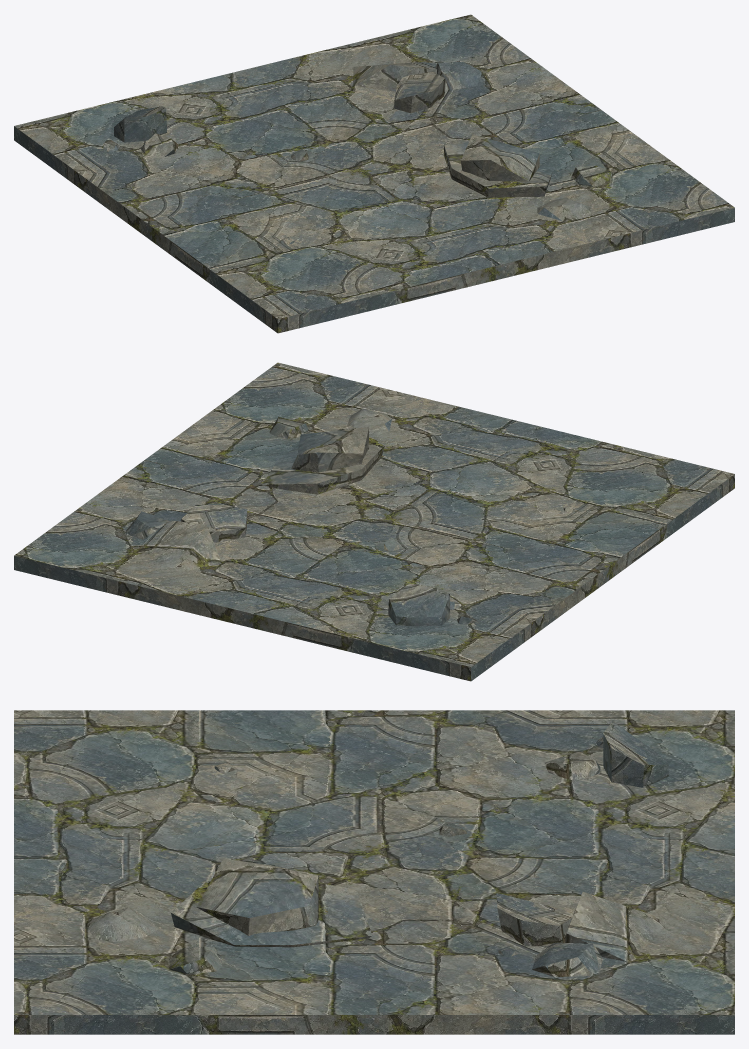
The model's file is floor_dirt_large_rocky_finished.glb.
3 renders of one model, top to bottom at view 1: azimuth 30°, elevation 25°; view 2: azimuth 150°, elevation 25°; view 3: azimuth 270°, elevation 25°, orthographic. The views are drawn at different scales.
Visible parts, largest first — view 1: floor_dirt_large_rocky; view 2: floor_dirt_large_rocky; view 3: floor_dirt_large_rocky.
Part boxes in pixels (x1,y1,x2,y2): floor_dirt_large_rocky: (14, 14, 734, 333); floor_dirt_large_rocky: (14, 362, 734, 681); floor_dirt_large_rocky: (14, 710, 734, 1034).
Bounding box in the file's own units: 4 × 0.3928 × 4.
1 material, 1 textured.
